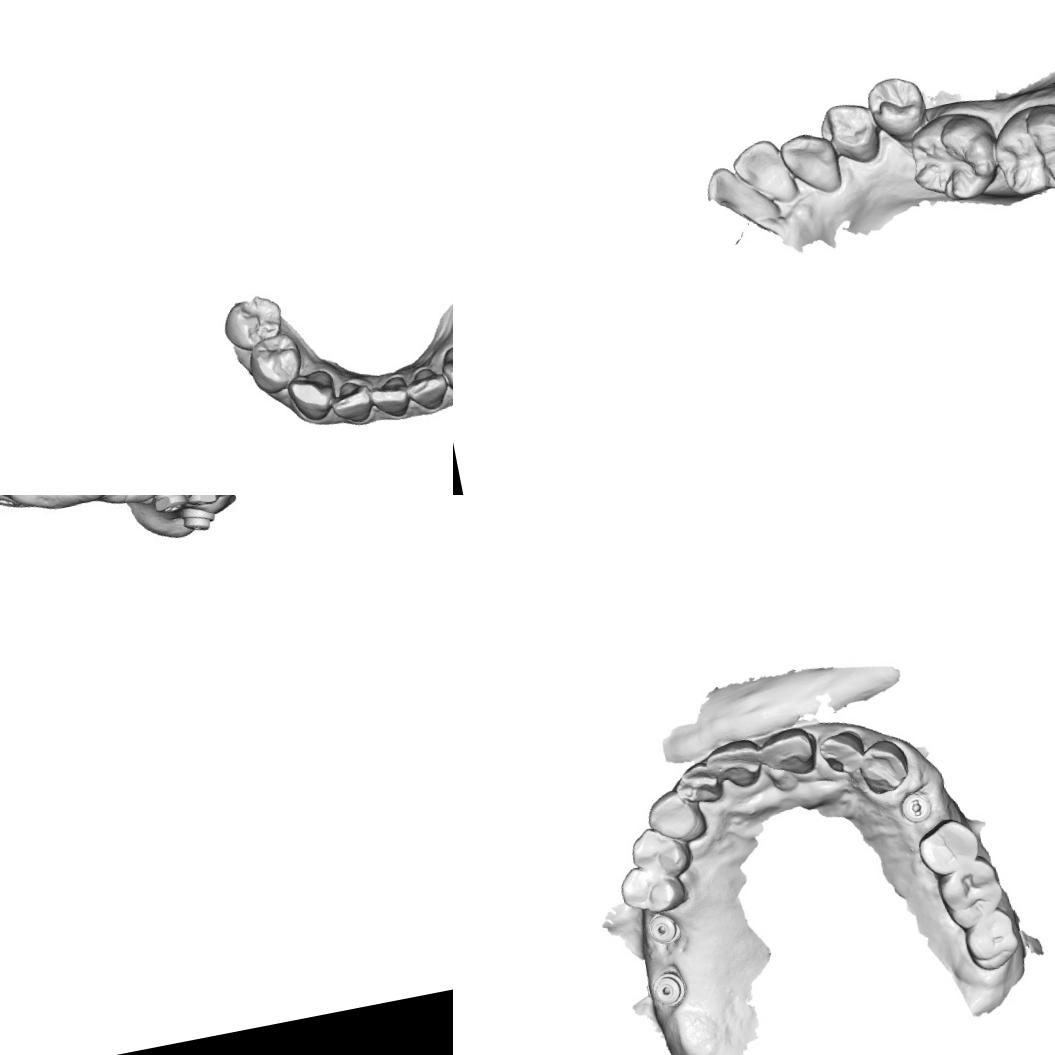canine: (778, 126, 845, 201), (641, 784, 710, 850), (854, 734, 913, 799), (282, 366, 340, 425), (437, 338, 453, 400)
implant: (648, 966, 690, 1011), (644, 910, 684, 950), (178, 502, 218, 535), (150, 495, 189, 515), (185, 495, 219, 508), (0, 495, 21, 512)
implant_minus: (896, 785, 936, 827)
incisor: (726, 133, 799, 214), (700, 733, 766, 795), (754, 722, 821, 782), (814, 726, 870, 781), (698, 162, 755, 216), (669, 757, 723, 812), (401, 363, 451, 414), (365, 372, 414, 424), (328, 376, 376, 428)
molar: (902, 106, 1004, 209), (983, 95, 1055, 201), (932, 850, 1010, 934), (958, 903, 1026, 977)
premolar: (813, 94, 887, 170), (912, 812, 984, 880), (217, 290, 288, 356), (614, 857, 688, 920), (862, 70, 930, 138), (625, 819, 693, 883), (244, 328, 306, 396)
